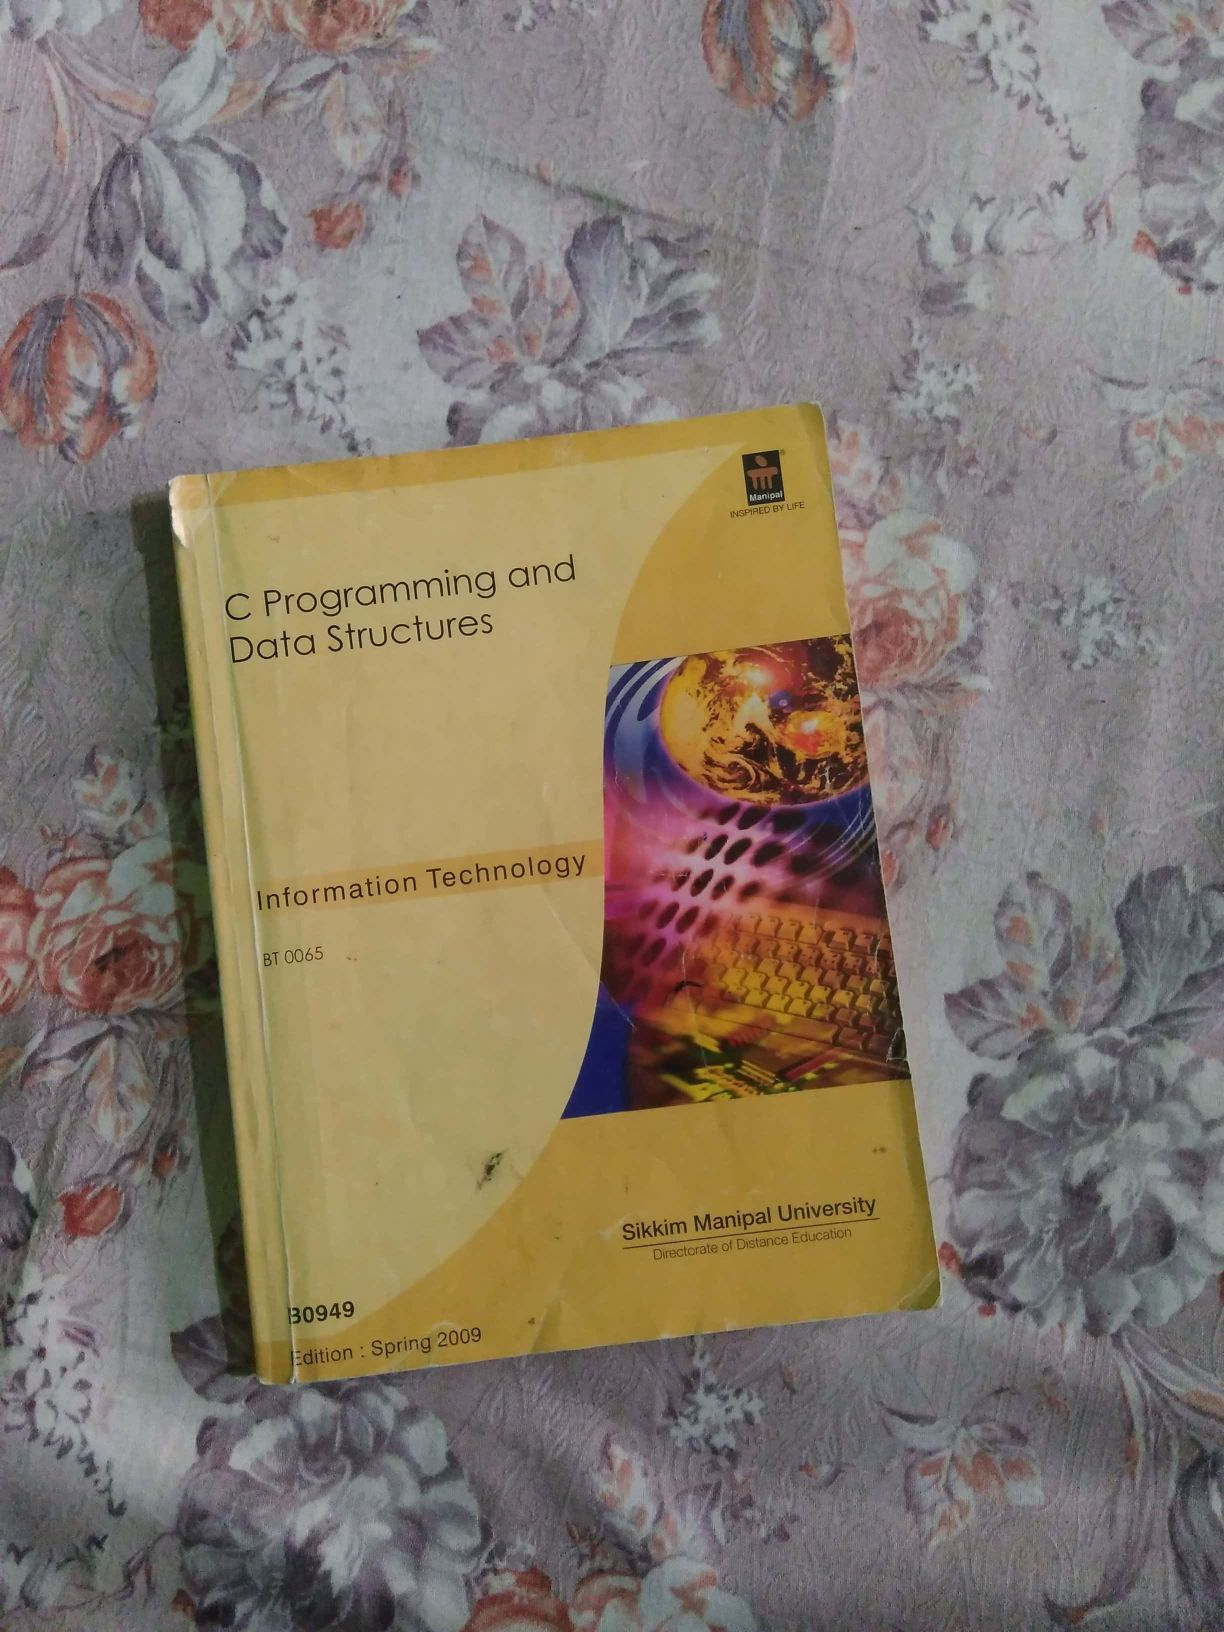clang: (127, 415, 1050, 1437)
